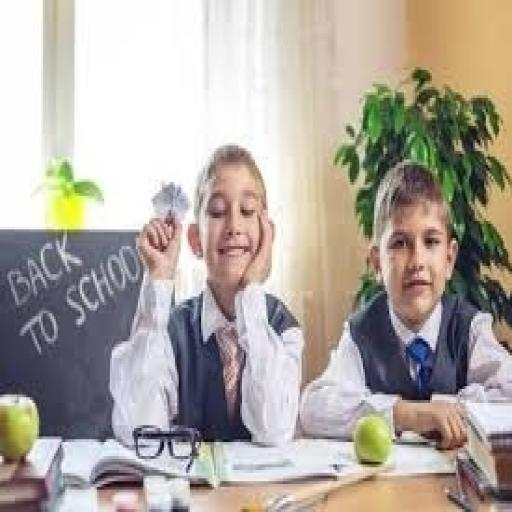sitting: (106, 137, 510, 451), (298, 156, 510, 450), (108, 140, 305, 448)
